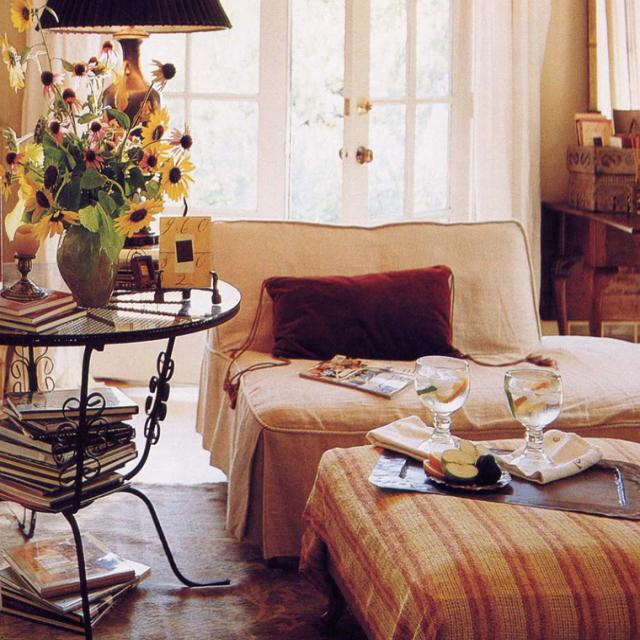apple: (440, 449, 477, 476)
cup of spoons: (503, 368, 561, 468), (413, 354, 468, 451)
cushion occluded: (264, 263, 450, 355)
